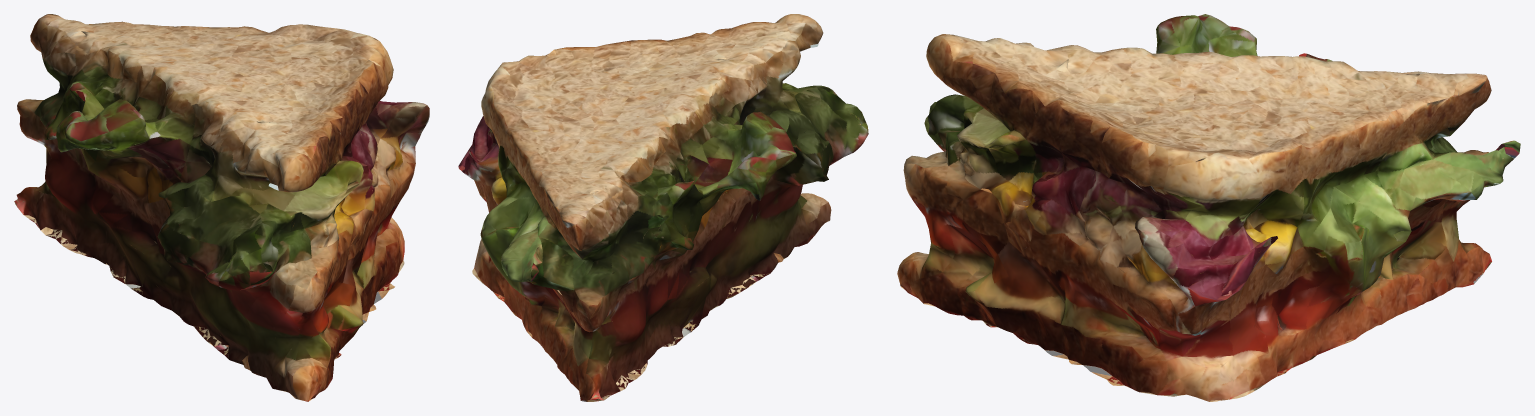
Rendered from Sandwich.fbx.
3 renders of one model, left to right at view 1: azimuth 30°, elevation 25°; view 2: azimuth 150°, elevation 25°; view 3: azimuth 270°, elevation 25°, orthographic. The views are drawn at different scales.
Parts seen in each view (by area): view 1: mesh; view 2: mesh; view 3: mesh.
Boxes of the visible parts, x1,y1,x2,y2 form: mesh: [14, 14, 429, 401]; mesh: [458, 14, 868, 401]; mesh: [897, 14, 1520, 401].
Bounding box in the file's own units: 363 × 238 × 511.
Materials: 1 (1 with a texture image).
